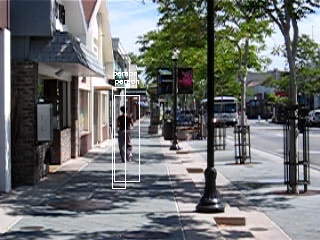person: (116, 107, 135, 164), (115, 107, 134, 164), (117, 107, 136, 164), (116, 106, 135, 163), (116, 108, 135, 165)
target_negative: (106, 58, 307, 190), (71, 94, 151, 187), (86, 23, 104, 213), (162, 74, 178, 184), (27, 63, 69, 103), (300, 141, 301, 207)
